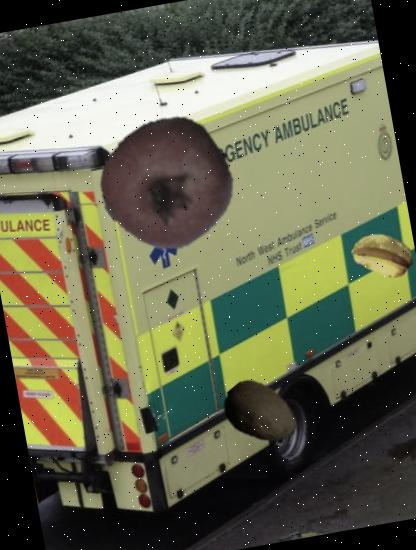Carambula: (348, 219, 416, 289)
Papaya: (216, 370, 302, 457)
Pomegranate: (91, 107, 244, 260)
